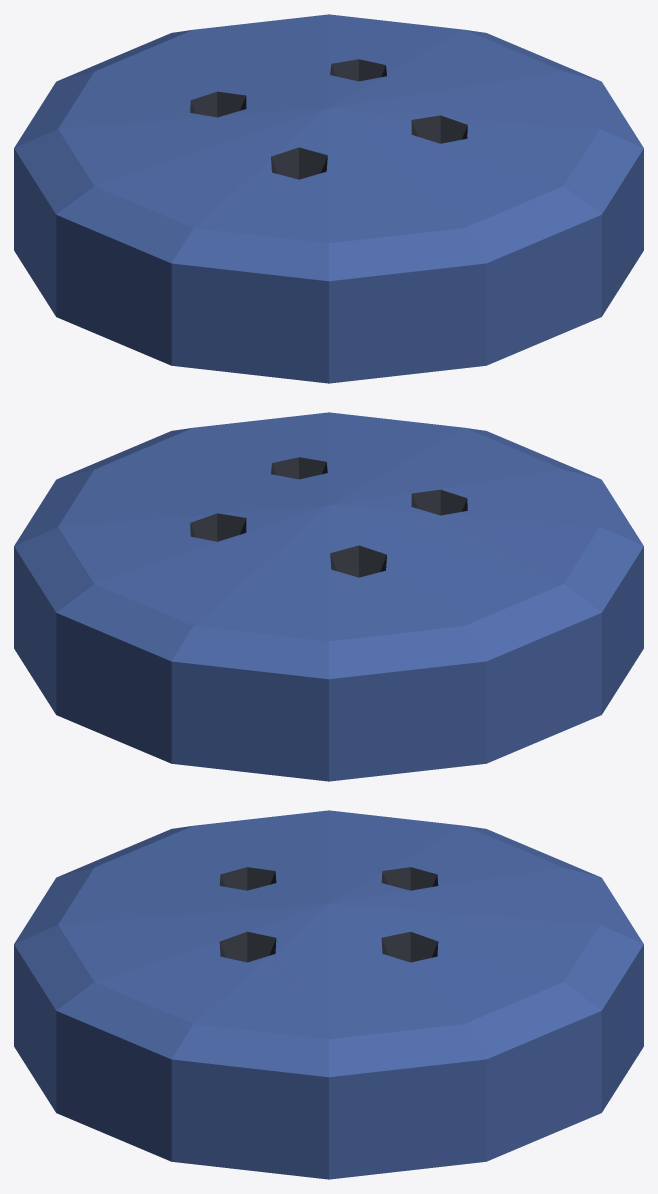
Rendered from button.glb.
3 renders of one model, top to bottom at view 1: azimuth 30°, elevation 25°; view 2: azimuth 150°, elevation 25°; view 3: azimuth 270°, elevation 25°, orthographic.
Visible parts, largest first — view 1: button; view 2: button; view 3: button.
Boxes of the visible parts, x1,y1,x2,y2 form: button: (14,14,643,383); button: (14,412,643,781); button: (14,810,643,1179).
Size of the model in its own units: 0.012 by 0.003 by 0.012.
